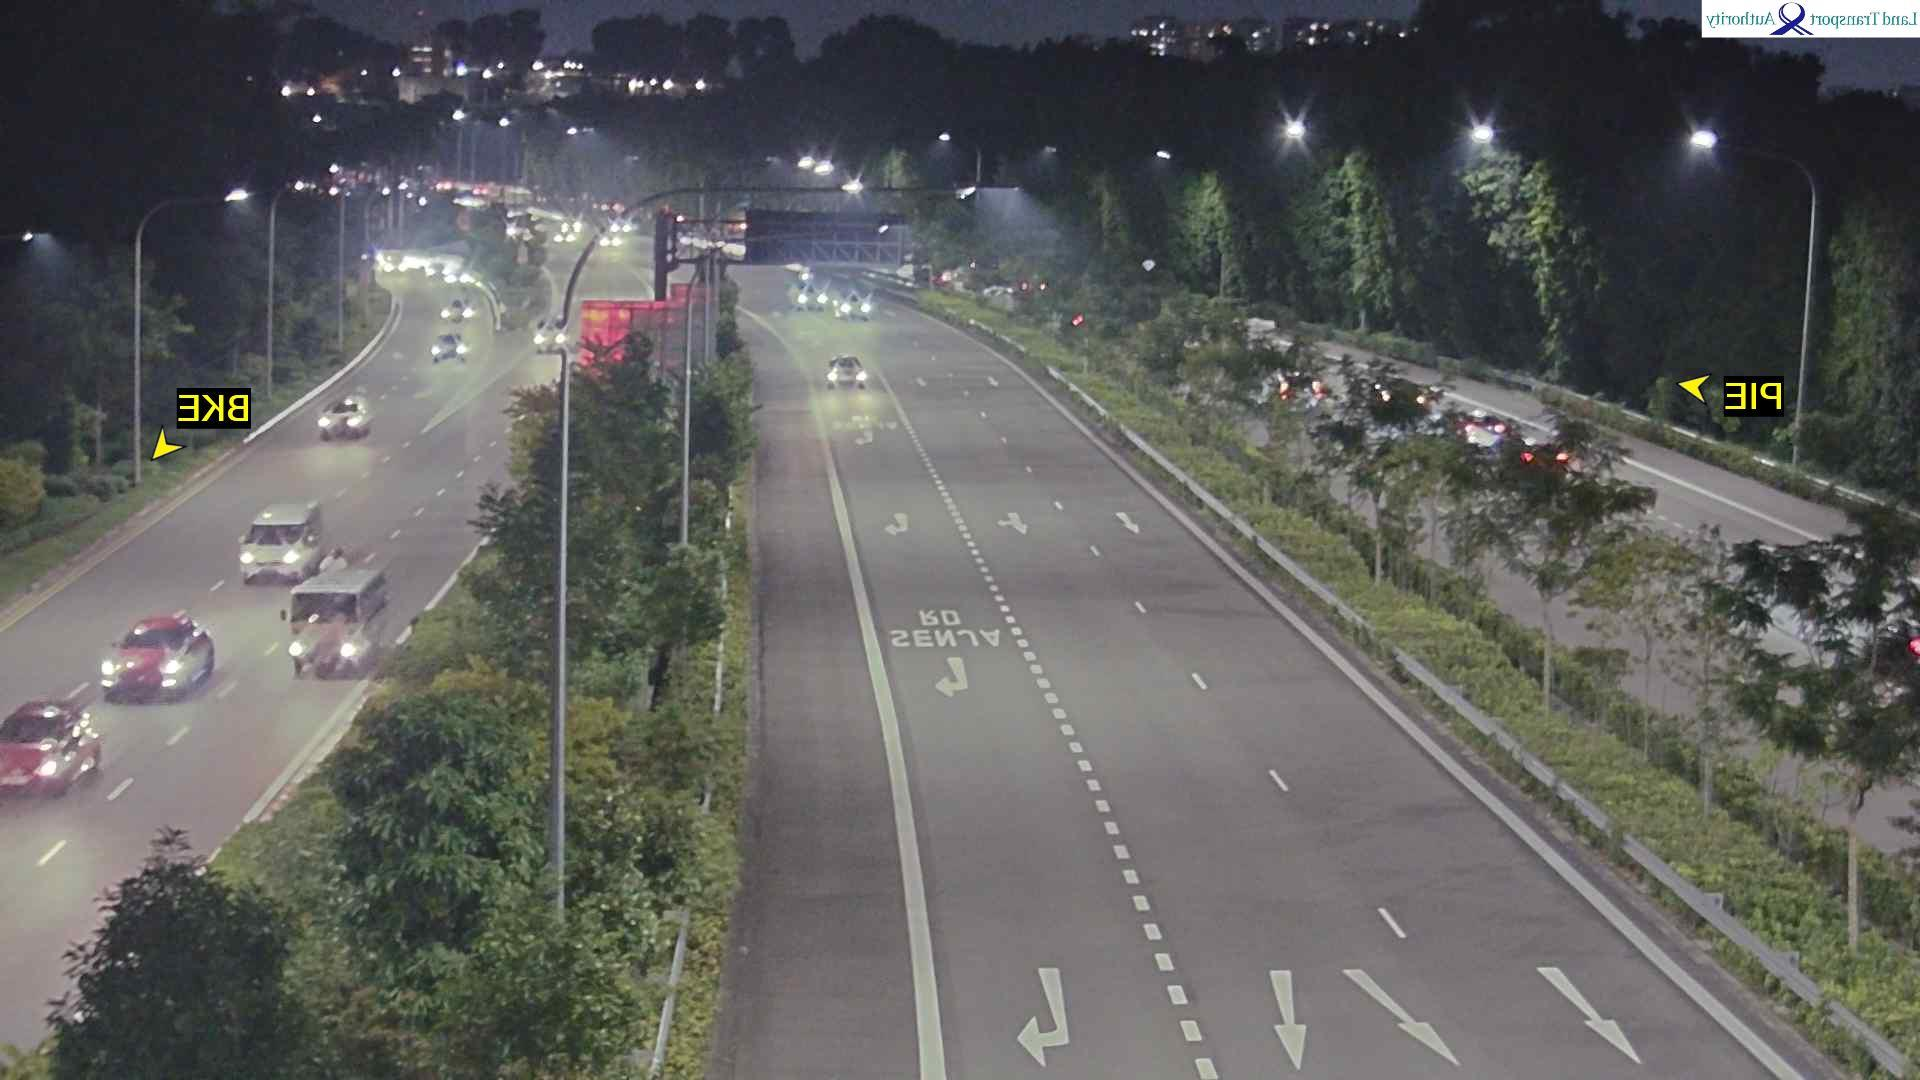incoming: (277, 589, 384, 676), (92, 625, 198, 700), (0, 717, 80, 799), (231, 526, 313, 584), (310, 401, 363, 442), (422, 336, 471, 364), (823, 361, 865, 392), (835, 294, 872, 322), (533, 323, 566, 351), (790, 290, 827, 314), (440, 302, 473, 320)
